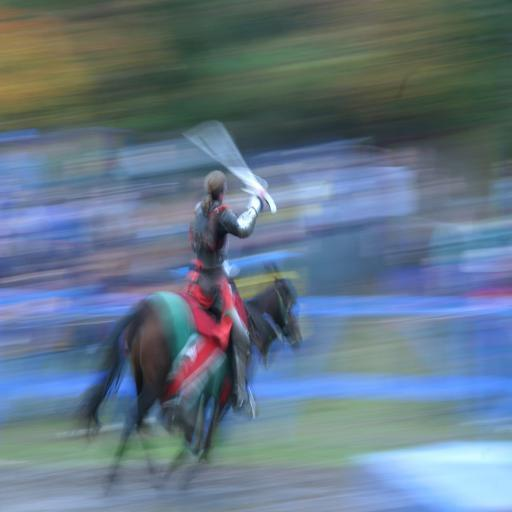horse: (74, 263, 304, 494)
